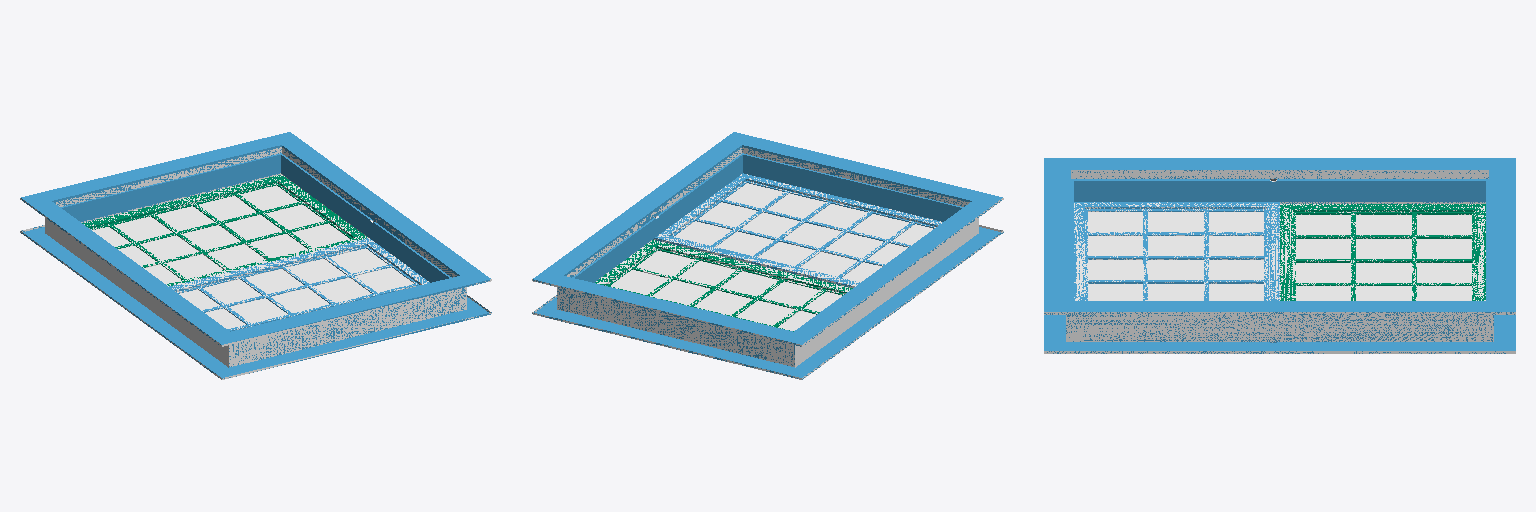
URDF robot description (window):
<robot name="window">
	<link name="base" />
	<link name="link_0">
		<visual name="out-frame">
			<origin xyz="0 0 0" />
			<geometry>
				<mesh filename="texture_dae/untitled.dae" scale="1 1 1" />
			</geometry>
		</visual>
		<collision>
			<origin xyz="0 0 0" />
			<geometry>
				<mesh filename="texture_dae/untitled.dae" scale="1 1 1" />
			</geometry>
		</collision>
	</link>
	<joint name="joint_0" type="fixed">
		<origin rpy="1.570796326794897 0 -1.570796326794897" xyz="0 0 0" />
		<child link="link_0" />
		<parent link="base" />
	</joint>
	<link name="link_1">
		<visual name="surf-board">
			<origin xyz="0.23565320670604706 -0.34836465252022536 0" />
			<geometry>
				<mesh filename="texture_dae/untitled1.dae" scale="1 1 1" />
			</geometry>
		</visual>
		<collision>
			<origin xyz="0.23565320670604706 -0.34836465252022536 0" />
			<geometry>
				<mesh filename="texture_dae/untitled1.dae" scale="1 1 1" />
			</geometry>
		</collision>
	</link>
	<joint name="joint_1" type="revolute">
		<origin xyz="-0.23565320670604706 0.34836465252022536 0" />
		<axis xyz="0 -1 0" />
		<child link="link_1" />
		<parent link="link_0" />
		<limit lower="0" upper="1.5079644737231006" />
	</joint>
	<link name="link_2">
		<visual name="handle">
			<origin xyz="0 0 0" />
			<geometry>
				<mesh filename="texture_dae/9969516-handle.dae" scale="0.8823529656175407 0.8823529656175407 0.8823529656175407" />
			</geometry>
		</visual>
		<collision>
			<origin xyz="0 0 0" />
			<geometry>
				<mesh filename="texture_dae/9969516-handle.dae" scale="0.8823529656175407 0.8823529656175407 0.8823529656175407" />
			</geometry>
		</collision>
	</link>
	<joint name="joint_2" type="revolute">
		<origin xyz="0 0 0" />
		<child link="link_2" />
		<parent link="link_3" />
		<axis xyz="0 0 1" />
		<limit lower="0" upper="0" />
	</joint>
	<link name="link_3">
		<visual name="lock">
			<origin xyz="0 0 0" />
			<geometry>
				<mesh filename="texture_dae/9969516-lock.dae" scale="0.8823529656175407 0.8823529656175407 0.8823529656175407" />
			</geometry>
		</visual>
		<collision>
			<origin xyz="0 0 0" />
			<geometry>
				<mesh filename="texture_dae/9969516-lock.dae" scale="0.8823529656175407 0.8823529656175407 0.8823529656175407" />
			</geometry>
		</collision>
	</link>
	<joint name="joint_3" type="fixed">
		<origin xyz="0.44409596992656586 -0.34836465252022536 0.00917094583565014" />
		<child link="link_3" />
		<parent link="link_1" />
	</joint>
</robot>

--- What the picture shows (computed from the rendered views, not written in the file) ---
3 views of the same robot in one strip: view 1: azimuth 30°, elevation 25°; view 2: azimuth 150°, elevation 25°; view 3: azimuth 270°, elevation 25° (orthographic).
Robot: window — 5 links, 4 joints (2 revolute, 2 fixed); root link base; default pose: all joints at 0.
Visible links, largest first — view 1: link_0, link_1; view 2: link_0, link_1; view 3: link_0, link_1.
Boxes of the visible links, x1,y1,x2,y2 form: link_0: (20,132,491,379); link_1: (82,175,367,286); link_0: (532,132,1003,379); link_1: (595,240,852,331); link_0: (1044,158,1515,353); link_1: (1280,204,1485,300).
Bounding box of the posed robot: 0.8277 × 1.07 × 0.1423 m (x, y, z).
Meshes: 4 distinct files referenced, 4 mesh visuals loaded (4 Collada DAE).
